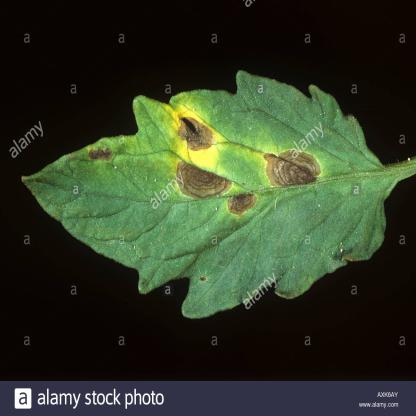potato leaf early blight: (18, 66, 394, 316)
